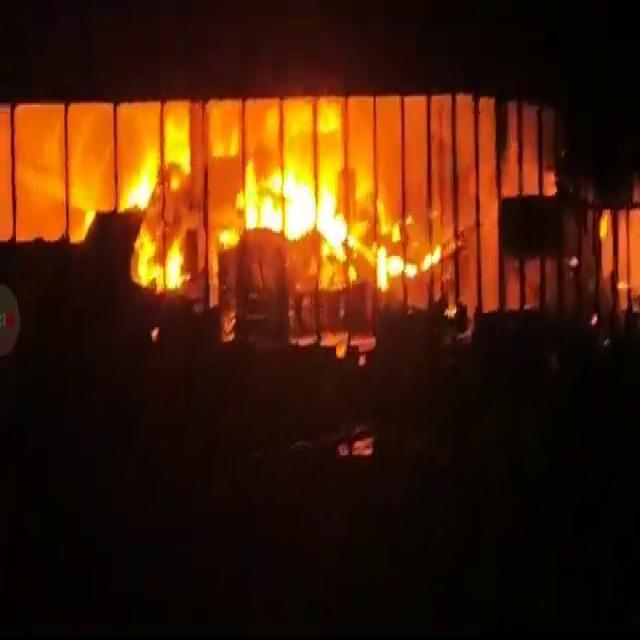Fire: (246, 176, 348, 246), (127, 162, 150, 216), (164, 248, 188, 292)
